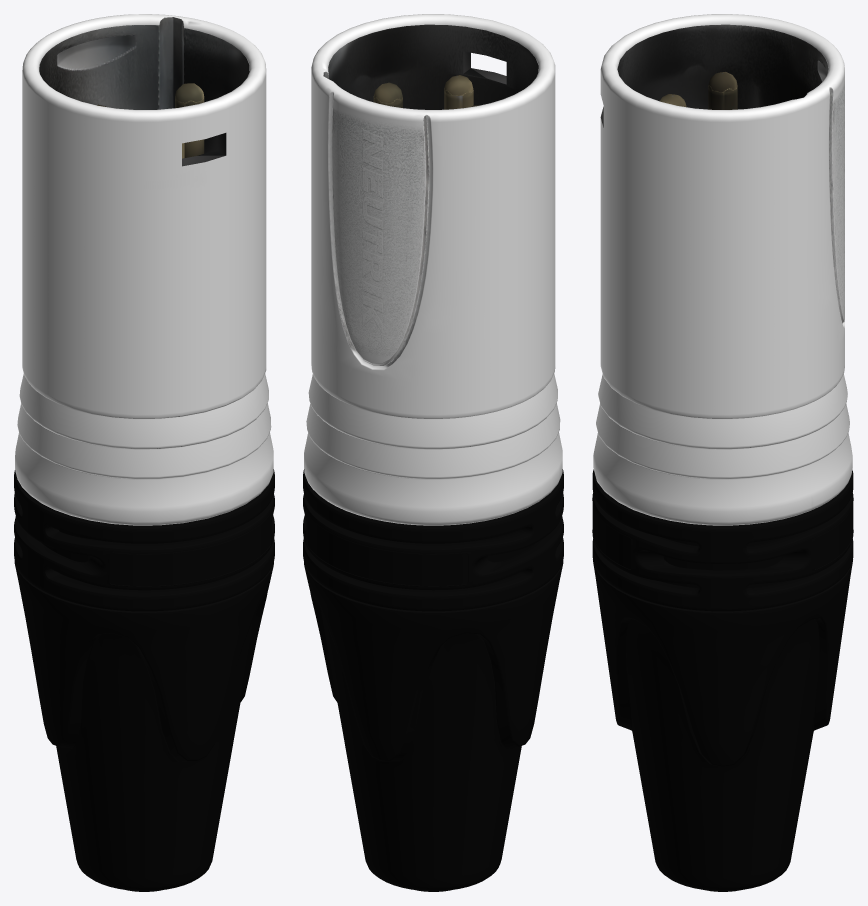
The model's file is connector.glb.
The picture shows the model from 3 angles, left to right: view 1: azimuth 30°, elevation 25°; view 2: azimuth 150°, elevation 25°; view 3: azimuth 270°, elevation 25°; orthographic projection.
Visible parts, largest first — view 1: XLR-plug.001; view 2: XLR-plug.001; view 3: XLR-plug.001.
Part boxes in pixels (x1,y1,x2,y2): XLR-plug.001: [14, 14, 274, 891]; XLR-plug.001: [303, 14, 563, 891]; XLR-plug.001: [592, 14, 853, 891].
Bounding box in the file's own units: 0.0203 × 0.0697 × 0.0203.
Materials: 4 (2 with a texture image).
